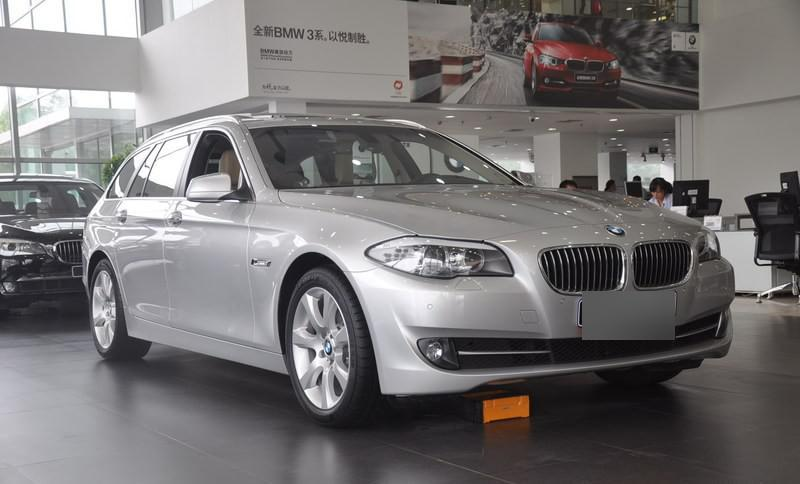Wagon: (79, 111, 737, 429)
